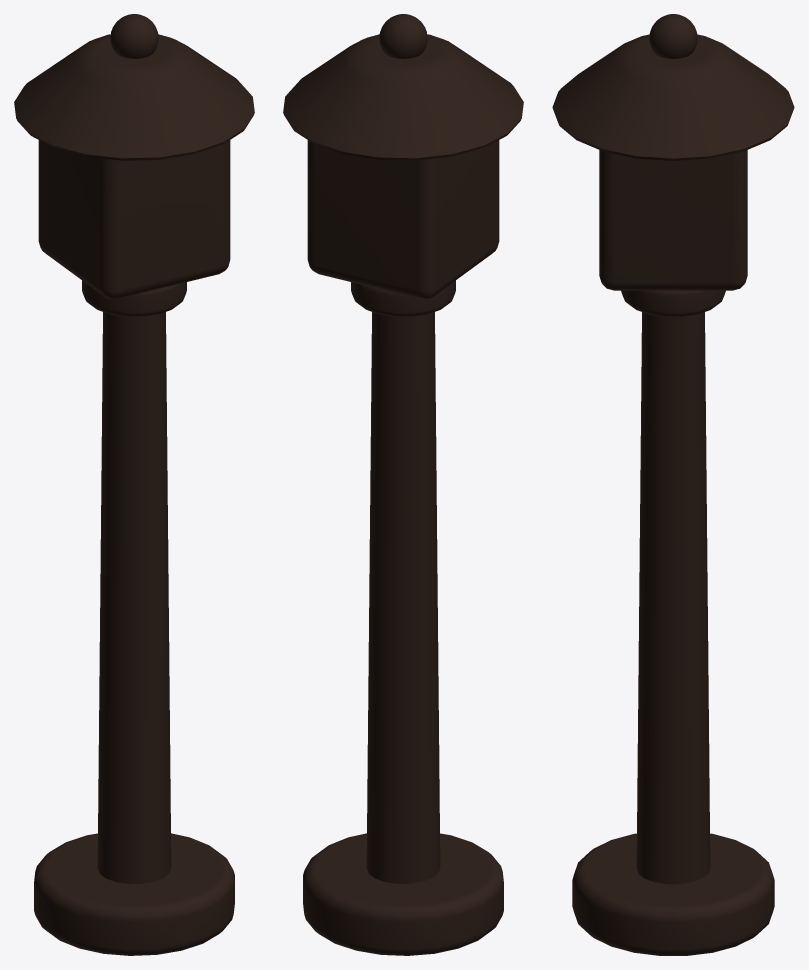
File: prop_lantern.glb
3 renders of one model, left to right at view 1: azimuth 30°, elevation 25°; view 2: azimuth 150°, elevation 25°; view 3: azimuth 270°, elevation 25°, orthographic.
Parts seen in each view (by area): view 1: lant_pole, lant_cage, lant_cap, lant_base, lant_collar, lant_finial; view 2: lant_pole, lant_cage, lant_cap, lant_base, lant_collar, lant_finial; view 3: lant_pole, lant_cap, lant_cage, lant_base, lant_collar, lant_finial.
Part boxes in pixels (bbox=[...]): lant_pole: bbox=[97, 312, 171, 883]; lant_cage: bbox=[38, 140, 230, 299]; lant_cap: bbox=[14, 34, 254, 160]; lant_base: bbox=[34, 833, 234, 955]; lant_collar: bbox=[82, 280, 186, 316]; lant_finial: bbox=[110, 14, 158, 58]; lant_pole: bbox=[366, 312, 440, 883]; lant_cage: bbox=[307, 140, 499, 299]; lant_cap: bbox=[283, 34, 523, 160]; lant_base: bbox=[303, 833, 503, 955]; lant_collar: bbox=[351, 280, 455, 316]; lant_finial: bbox=[379, 14, 427, 58]; lant_pole: bbox=[636, 312, 710, 884]; lant_cap: bbox=[552, 34, 794, 160]; lant_cage: bbox=[599, 150, 747, 290]; lant_base: bbox=[572, 833, 774, 955]; lant_collar: bbox=[621, 290, 725, 316]; lant_finial: bbox=[649, 14, 697, 58].
Bounding box in the file's own units: 0.3594 × 1.48 × 0.3594.
